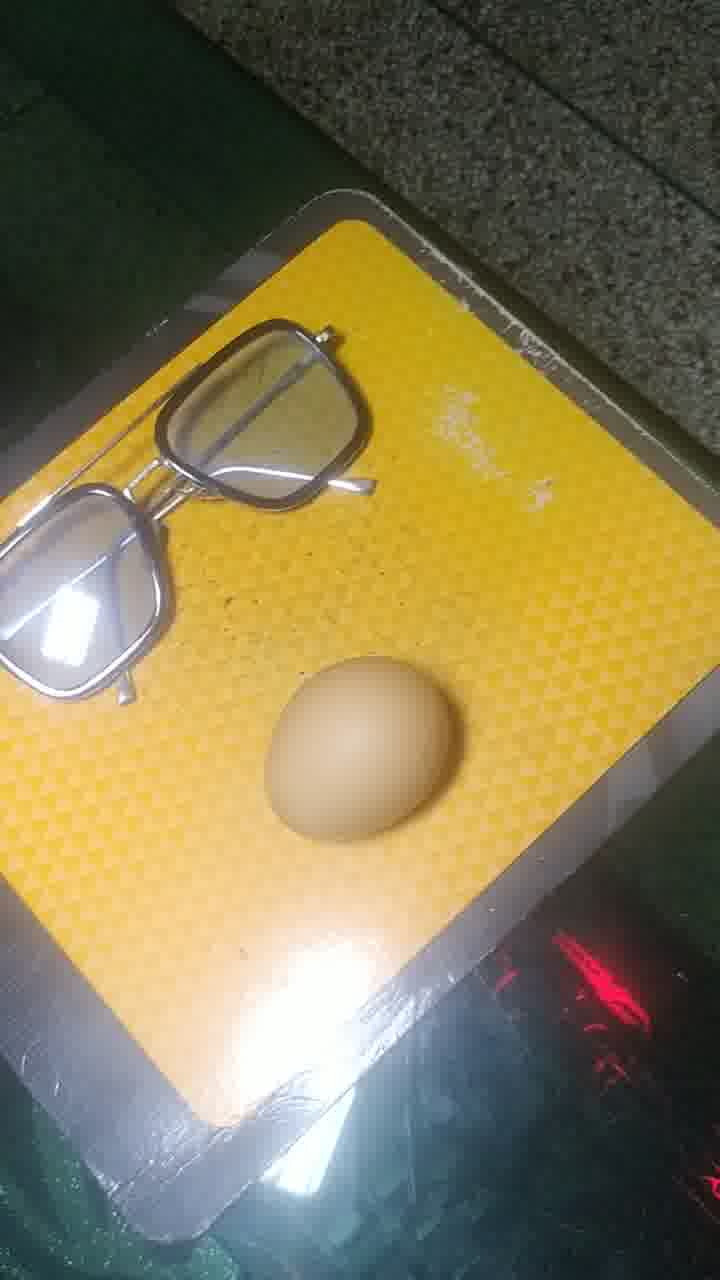egg: (254, 653, 474, 853)
sunglass: (1, 316, 491, 696)
